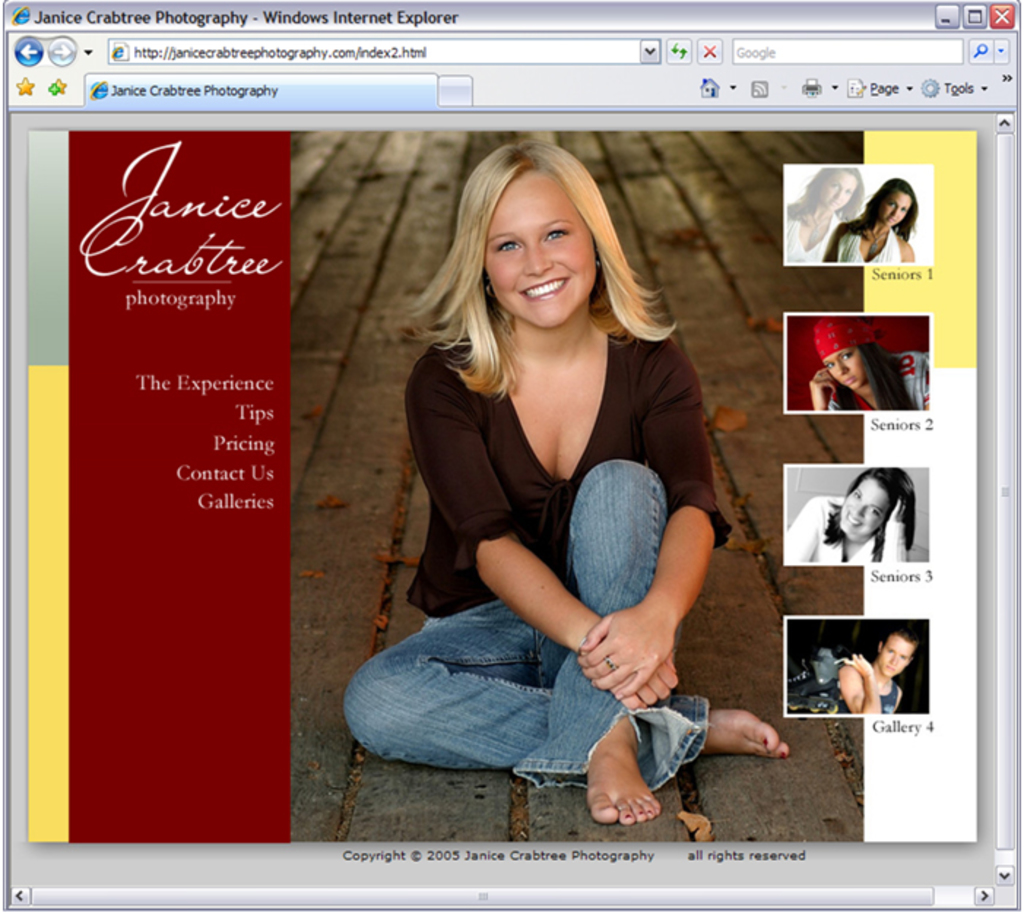person: (784, 163, 864, 264)
